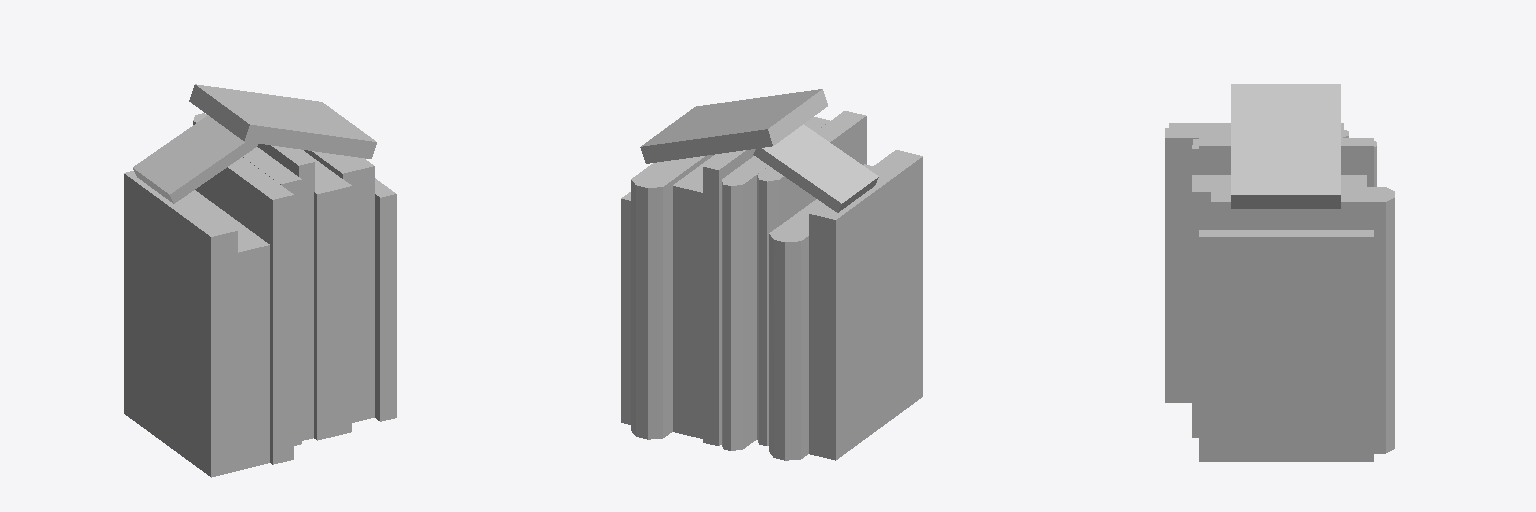
Rendered from books02.obj.
3 renders of one model, left to right at view 1: azimuth 30°, elevation 25°; view 2: azimuth 150°, elevation 25°; view 3: azimuth 270°, elevation 25°, orthographic.
Visible parts, largest first — view 1: mesh; view 2: mesh; view 3: mesh.
Part boxes in pixels (x1,y1,x2,y2): mesh: (124,84,396,477); mesh: (621,89,922,460); mesh: (1165,84,1394,461).
Bounding box in the file's own units: 16.08 × 24.09 × 16.06.